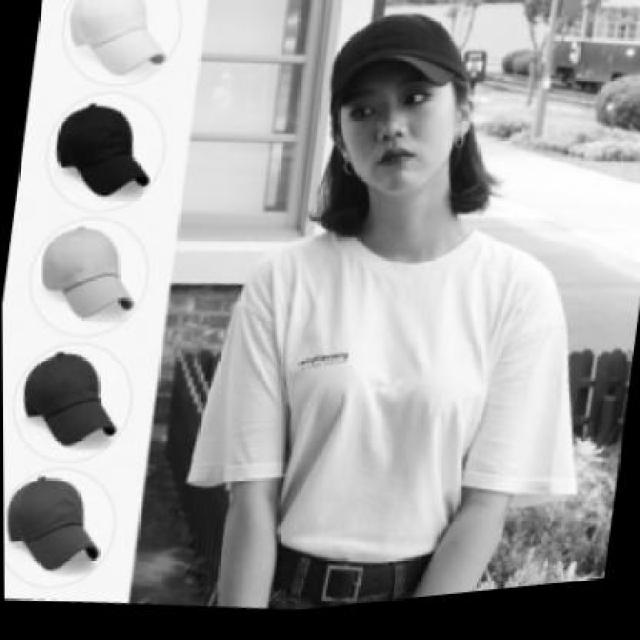hat: (325, 4, 484, 121), (26, 204, 149, 333), (43, 88, 162, 212), (15, 339, 128, 455), (3, 466, 109, 589), (57, 0, 188, 91)
